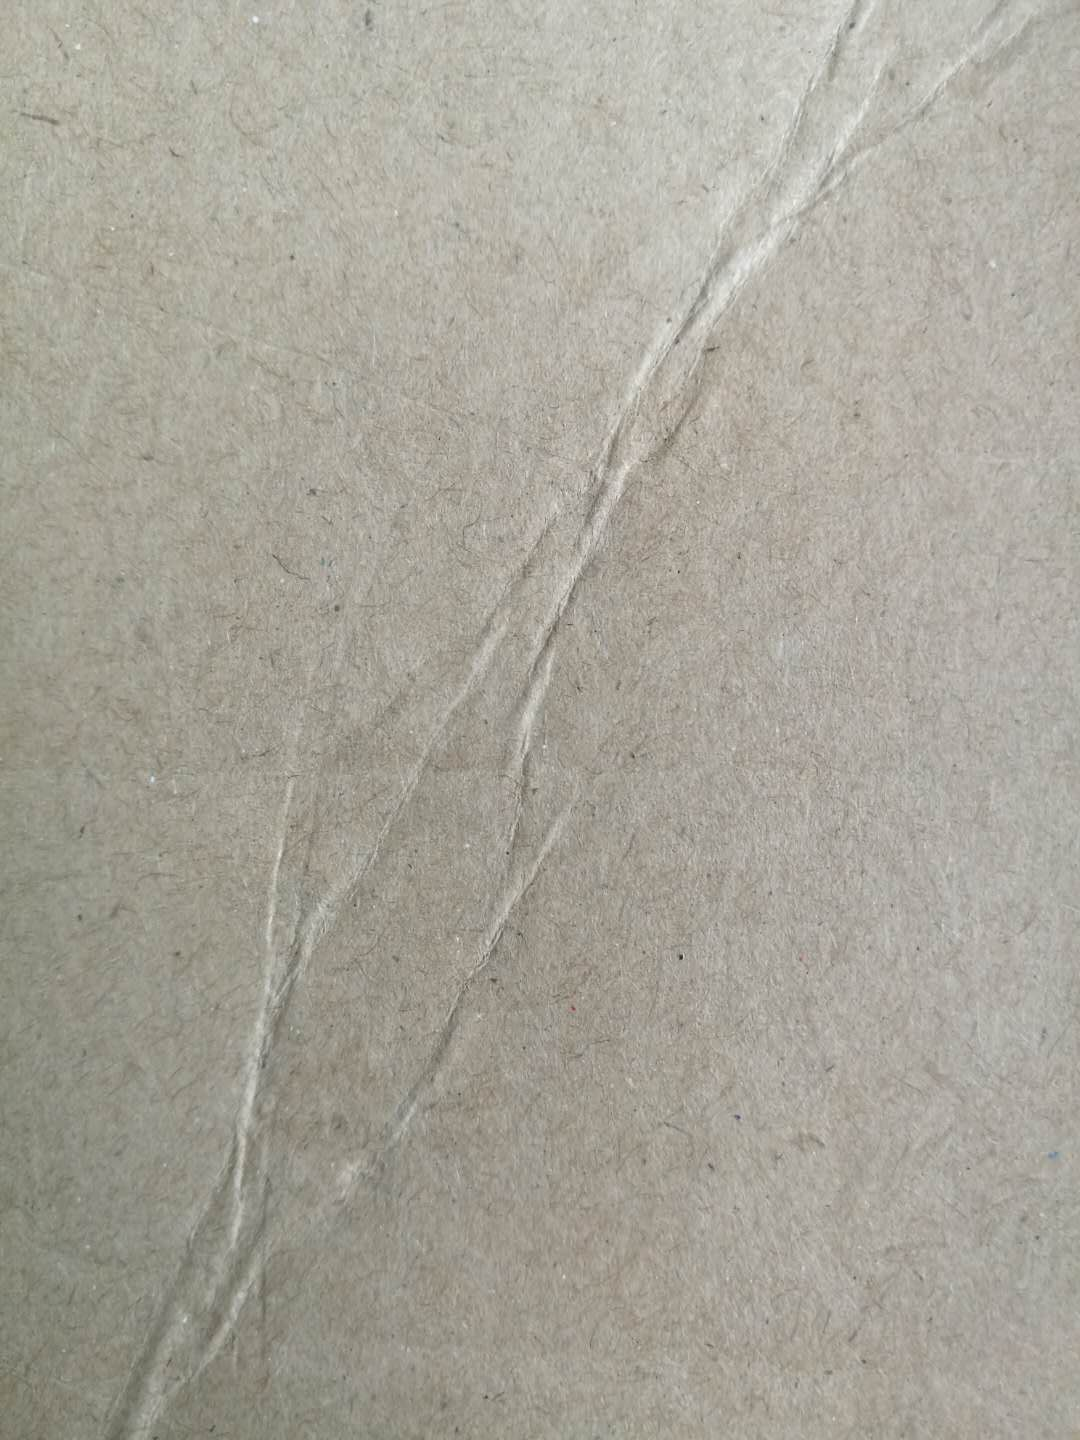defect: (99, 5, 1068, 1440)
